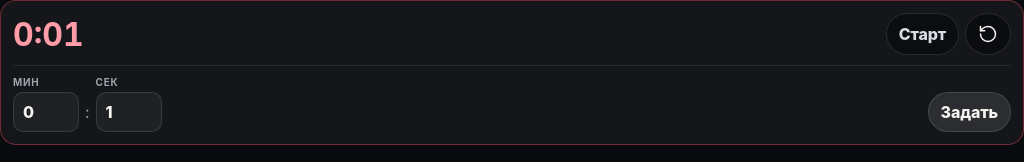
Test: shared mobile controls › stops at zero and requires an explicit reset
Click the button "Старт": (922, 34) [886,13,959,55]
Wait 1000 ms
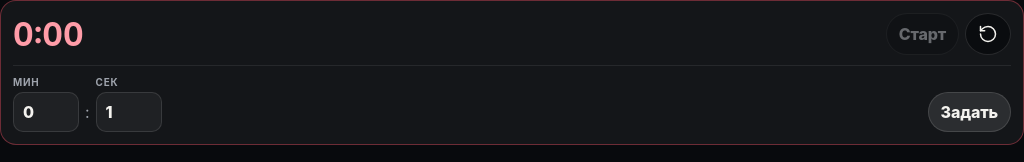
Expected: the text "0:00" is shown, [13,14,84,54]
Expected: the button "Старт" is disabled, [886,13,959,55]
Click the button named "Сбросить таймер": (988, 34) [965,13,1011,55]
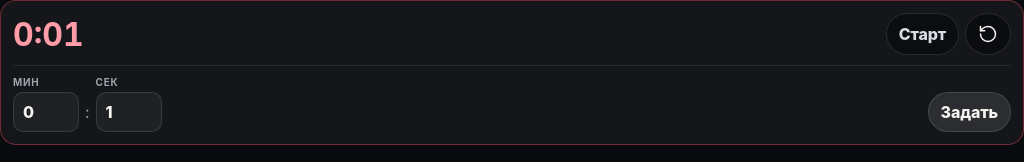
Expected: the text "0:01" is shown, [13,14,84,54]
